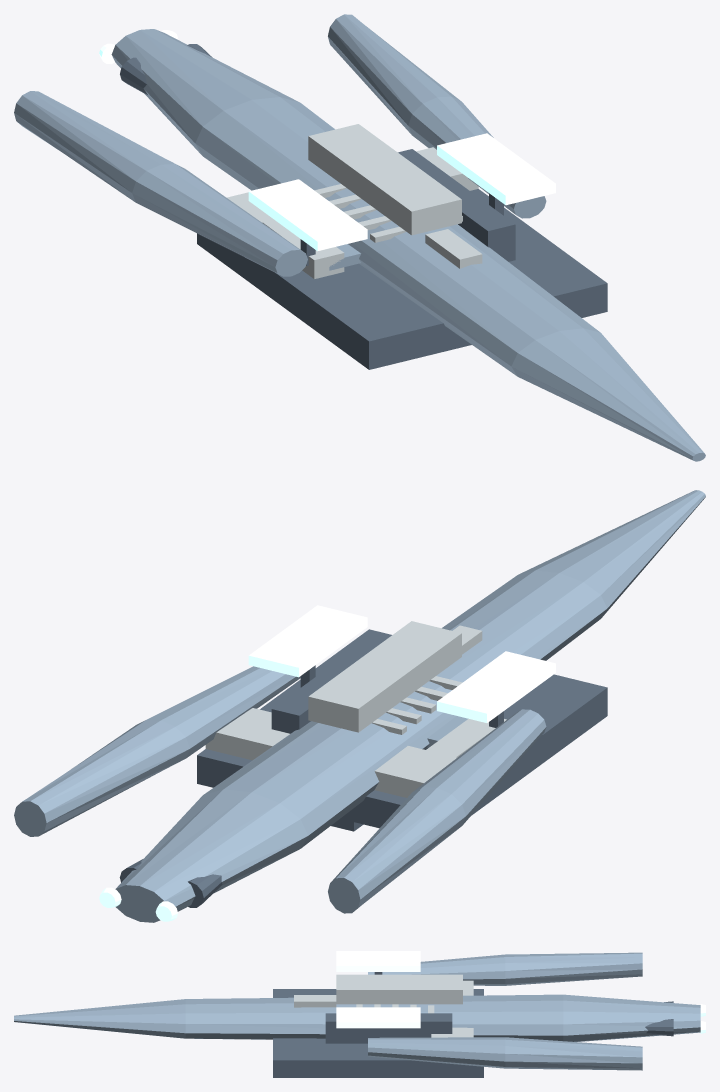
3 renders of one model, top to bottom at view 1: azimuth 30°, elevation 25°; view 2: azimuth 150°, elevation 25°; view 3: azimuth 270°, elevation 25°, orthographic. The views are drawn at different scales.
Bounding box in the file's own units: 5.3 × 1.57 × 14.93.
